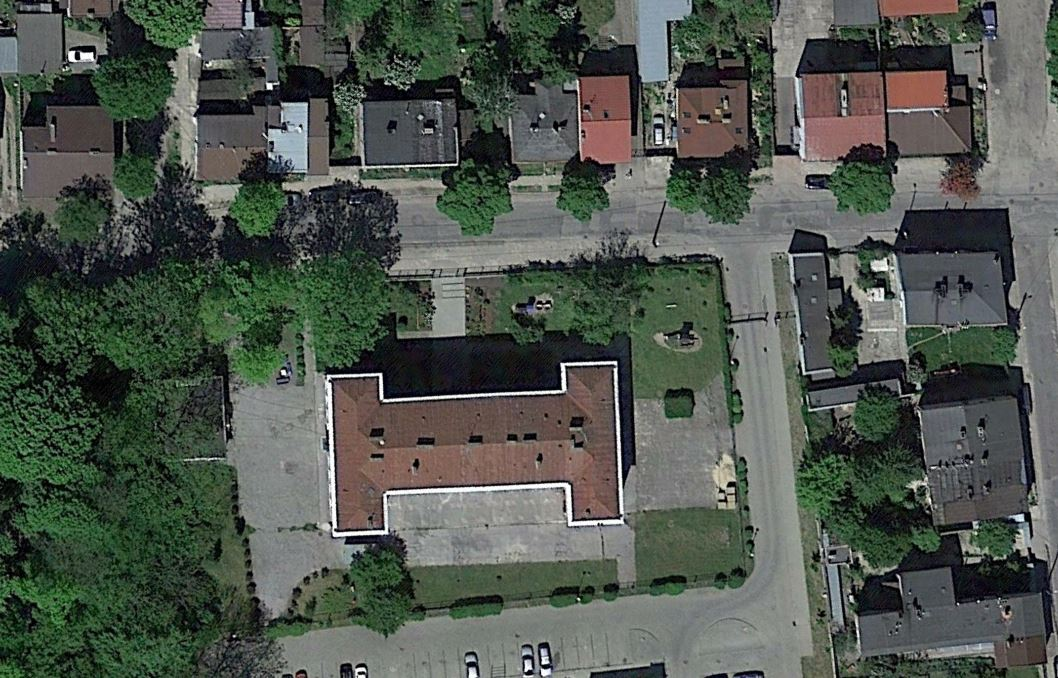block of flats: (300, 332, 642, 562)
family house: (845, 555, 1058, 674), (913, 390, 1044, 538), (185, 85, 340, 192), (503, 60, 643, 174), (1, 90, 134, 206), (347, 74, 470, 183), (790, 56, 899, 170), (672, 74, 757, 172)
